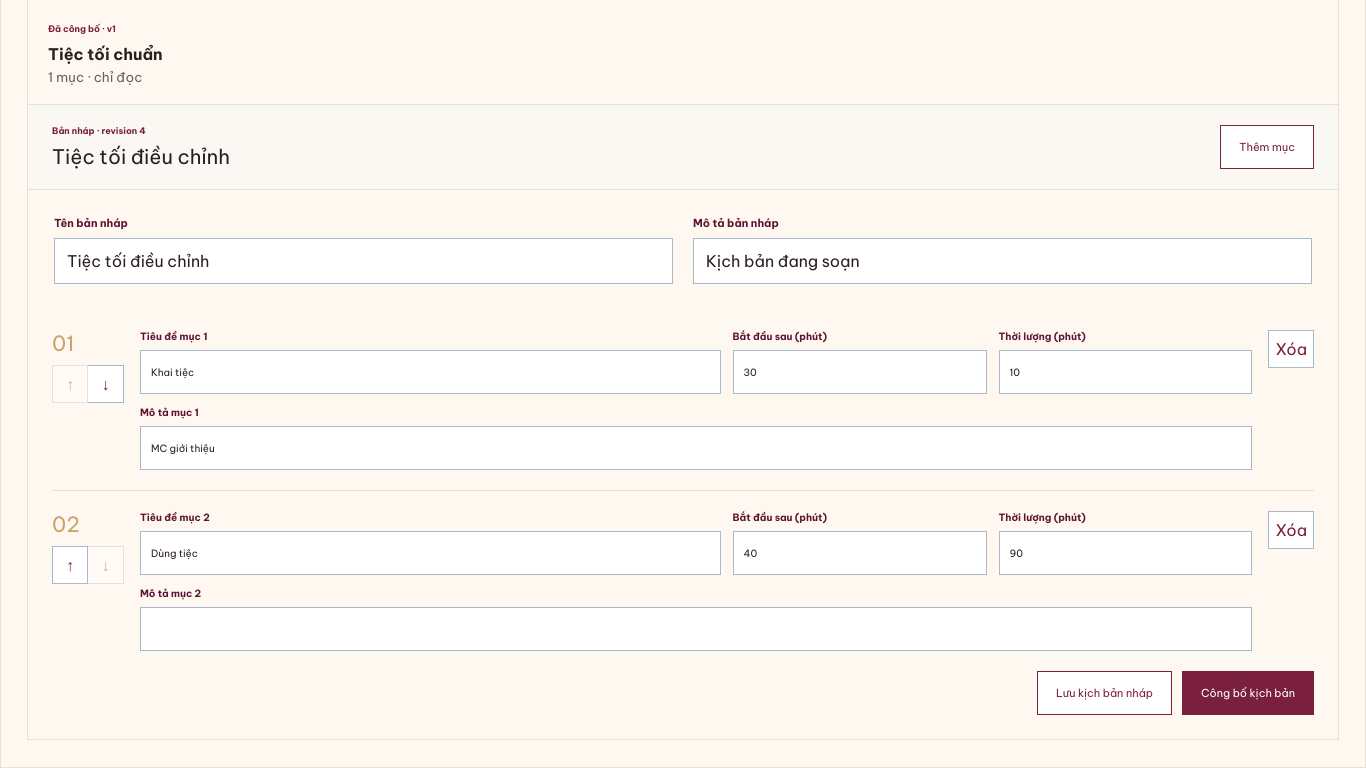
VC-20 timeline template editor › shows recoverable guidance when a stale publish loses the race
This screenshot has width=1366, height=768.
(page scrolled)
Click the button "Công bố kịch bản".
click(1248, 693)  # box [1182,671,1314,715]
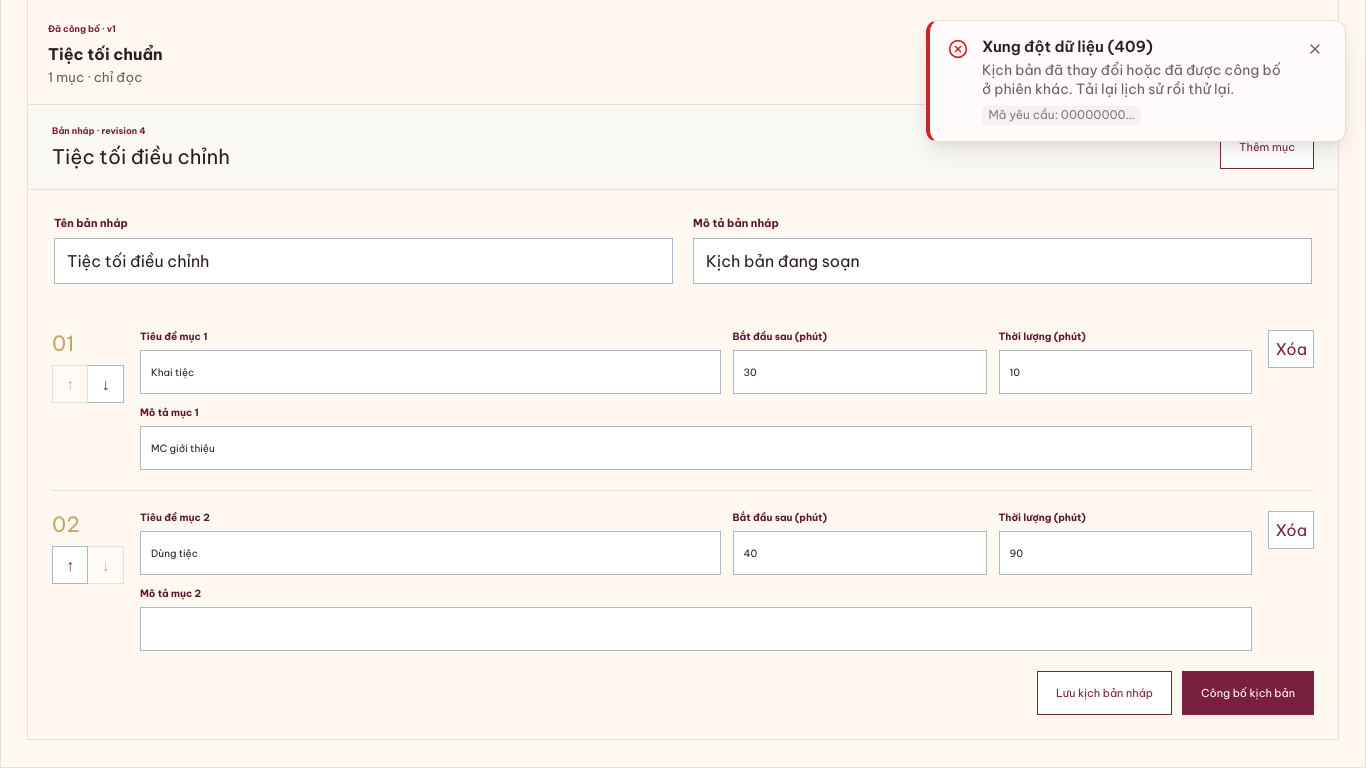
Now the message shows "Tải lại lịch sử", box [982,61,1281,98]
